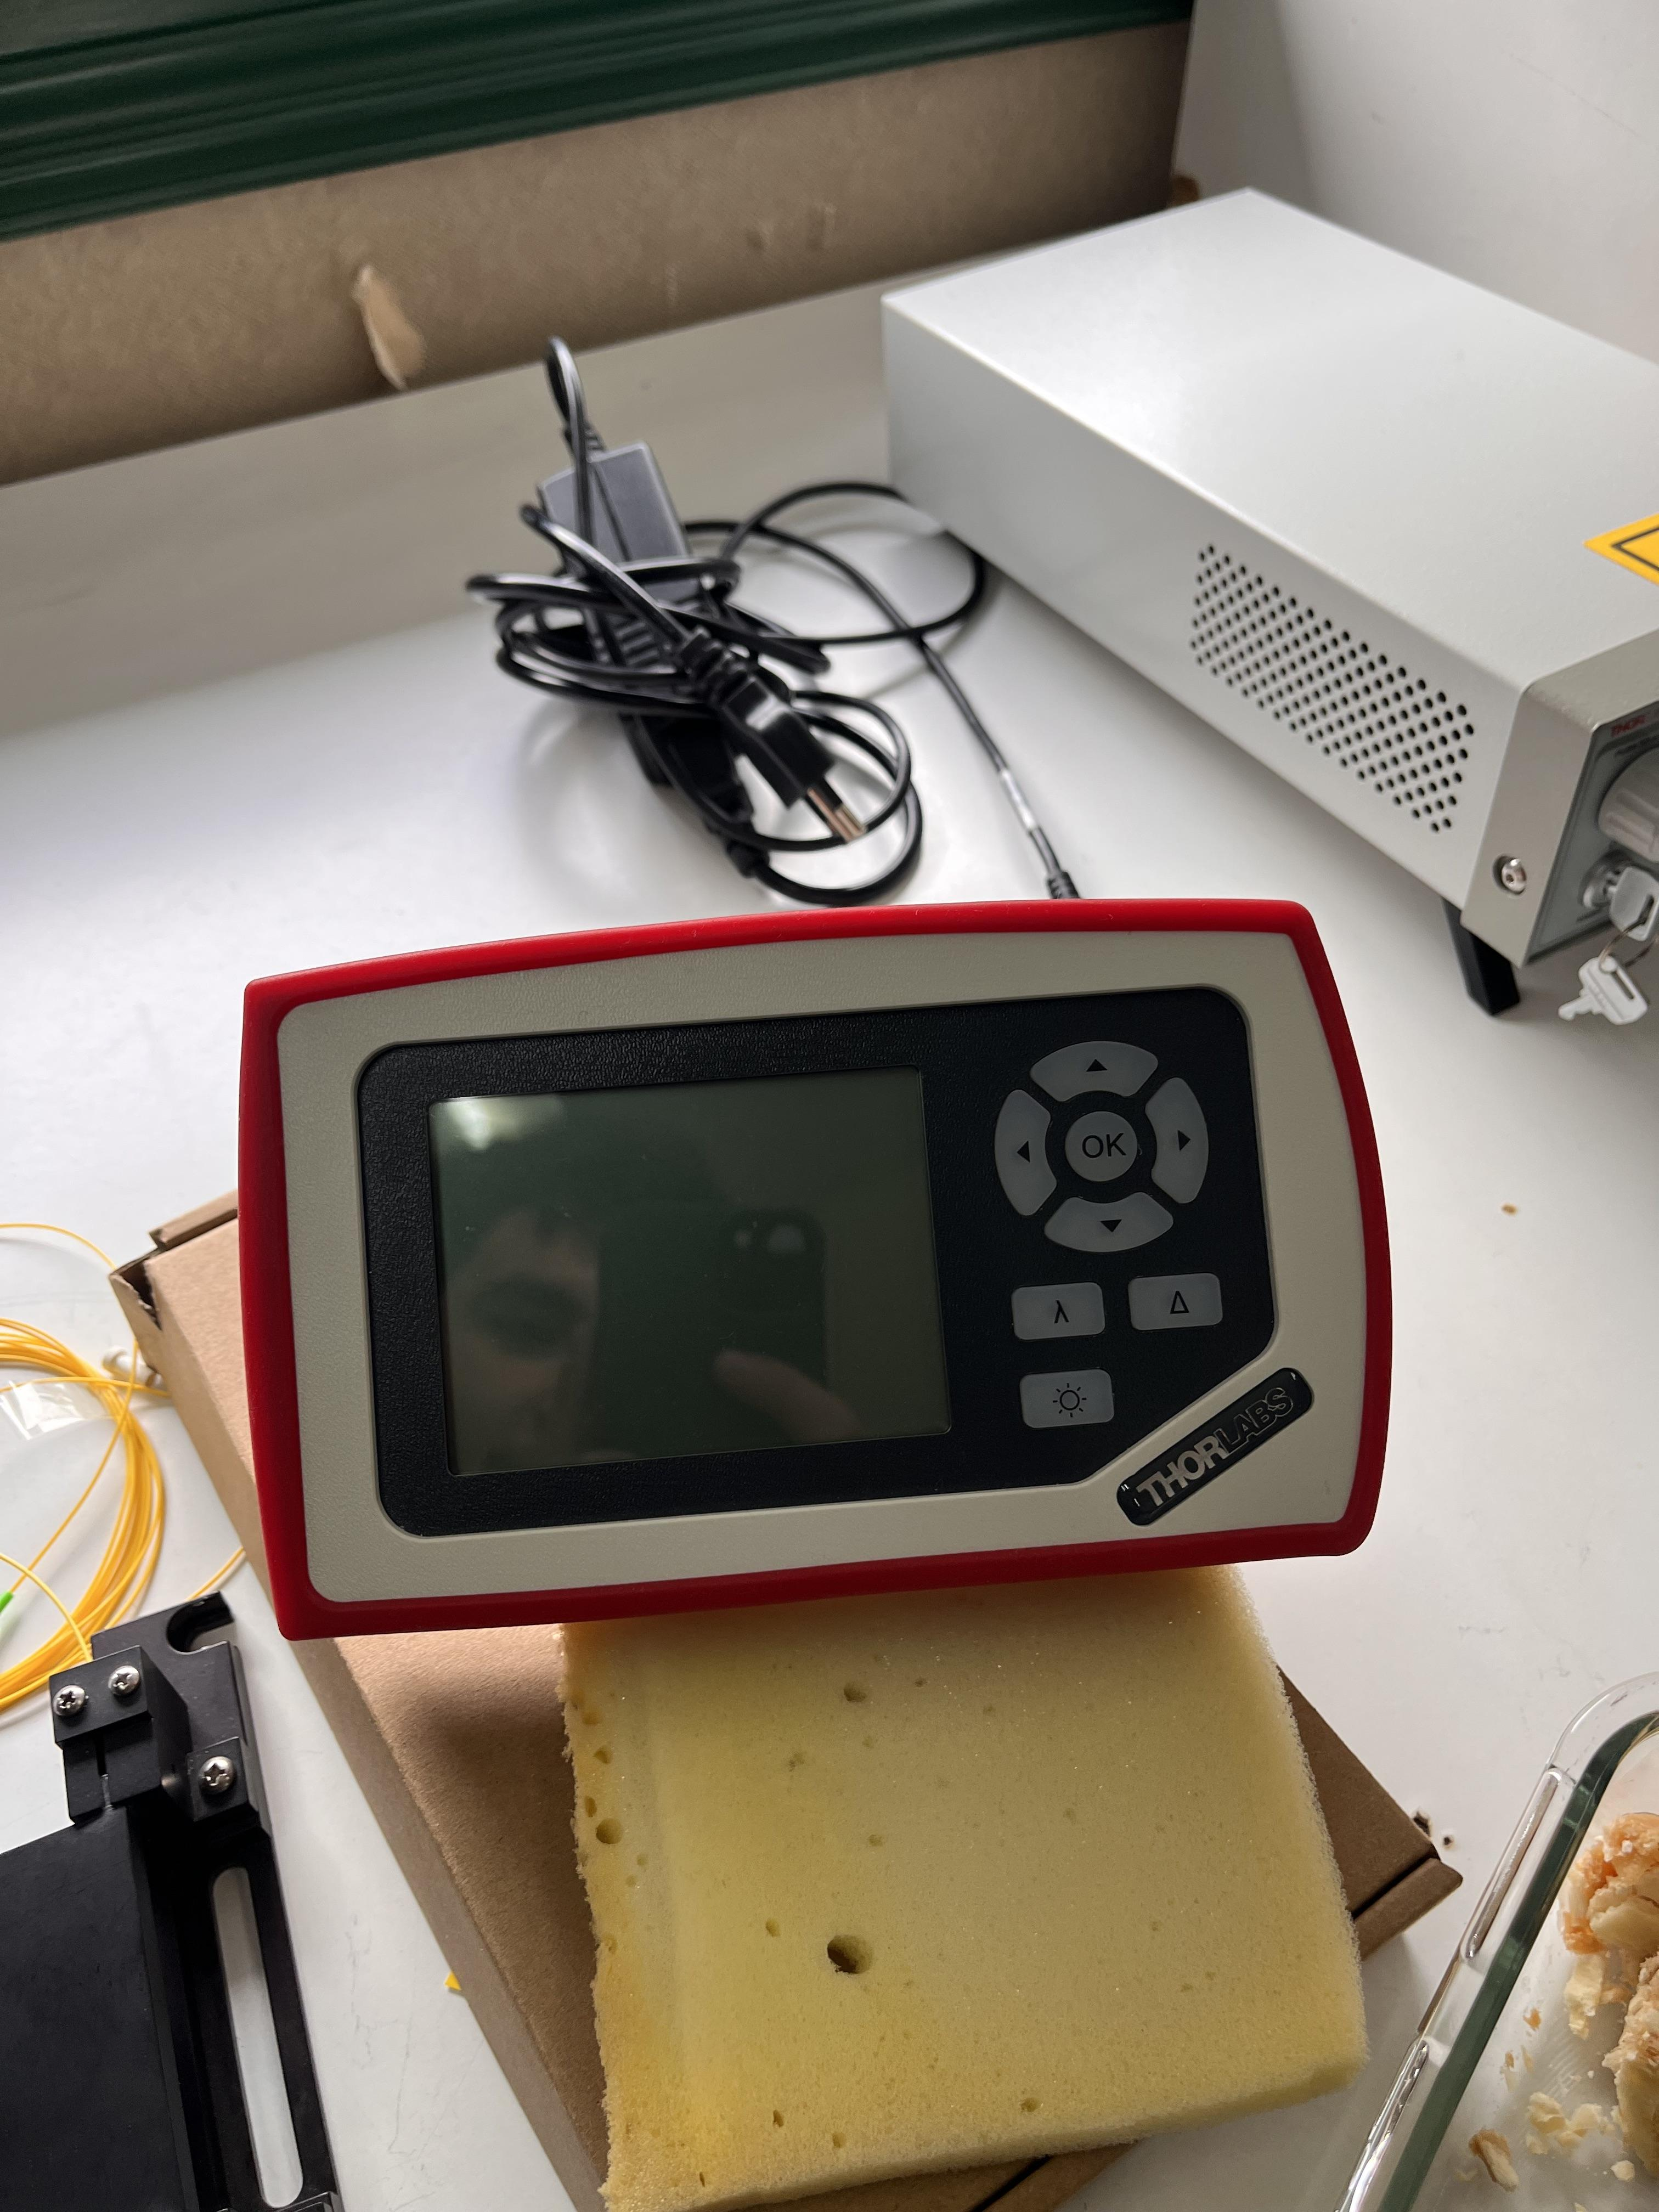powermeter: (234, 887, 1413, 1660)
